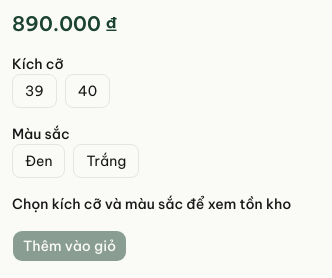
VariantSelector › chọn size+màu còn hàng → hiện đúng số lượng tồn kho
The width and height of the screenshot is (332, 278).
Click the radio button labelled "39".
click(34, 91)  # box [12,74,57,108]
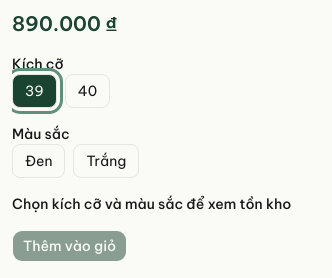
Click the radio button labelled "Đen".
click(39, 161)  # box [12,144,66,178]
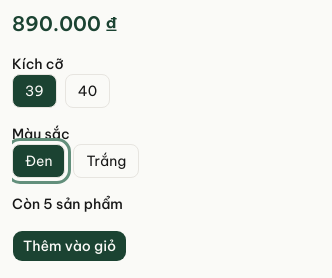
Expected: the text "Còn 5 sản phẩm" is shown, [12,195,123,213]
